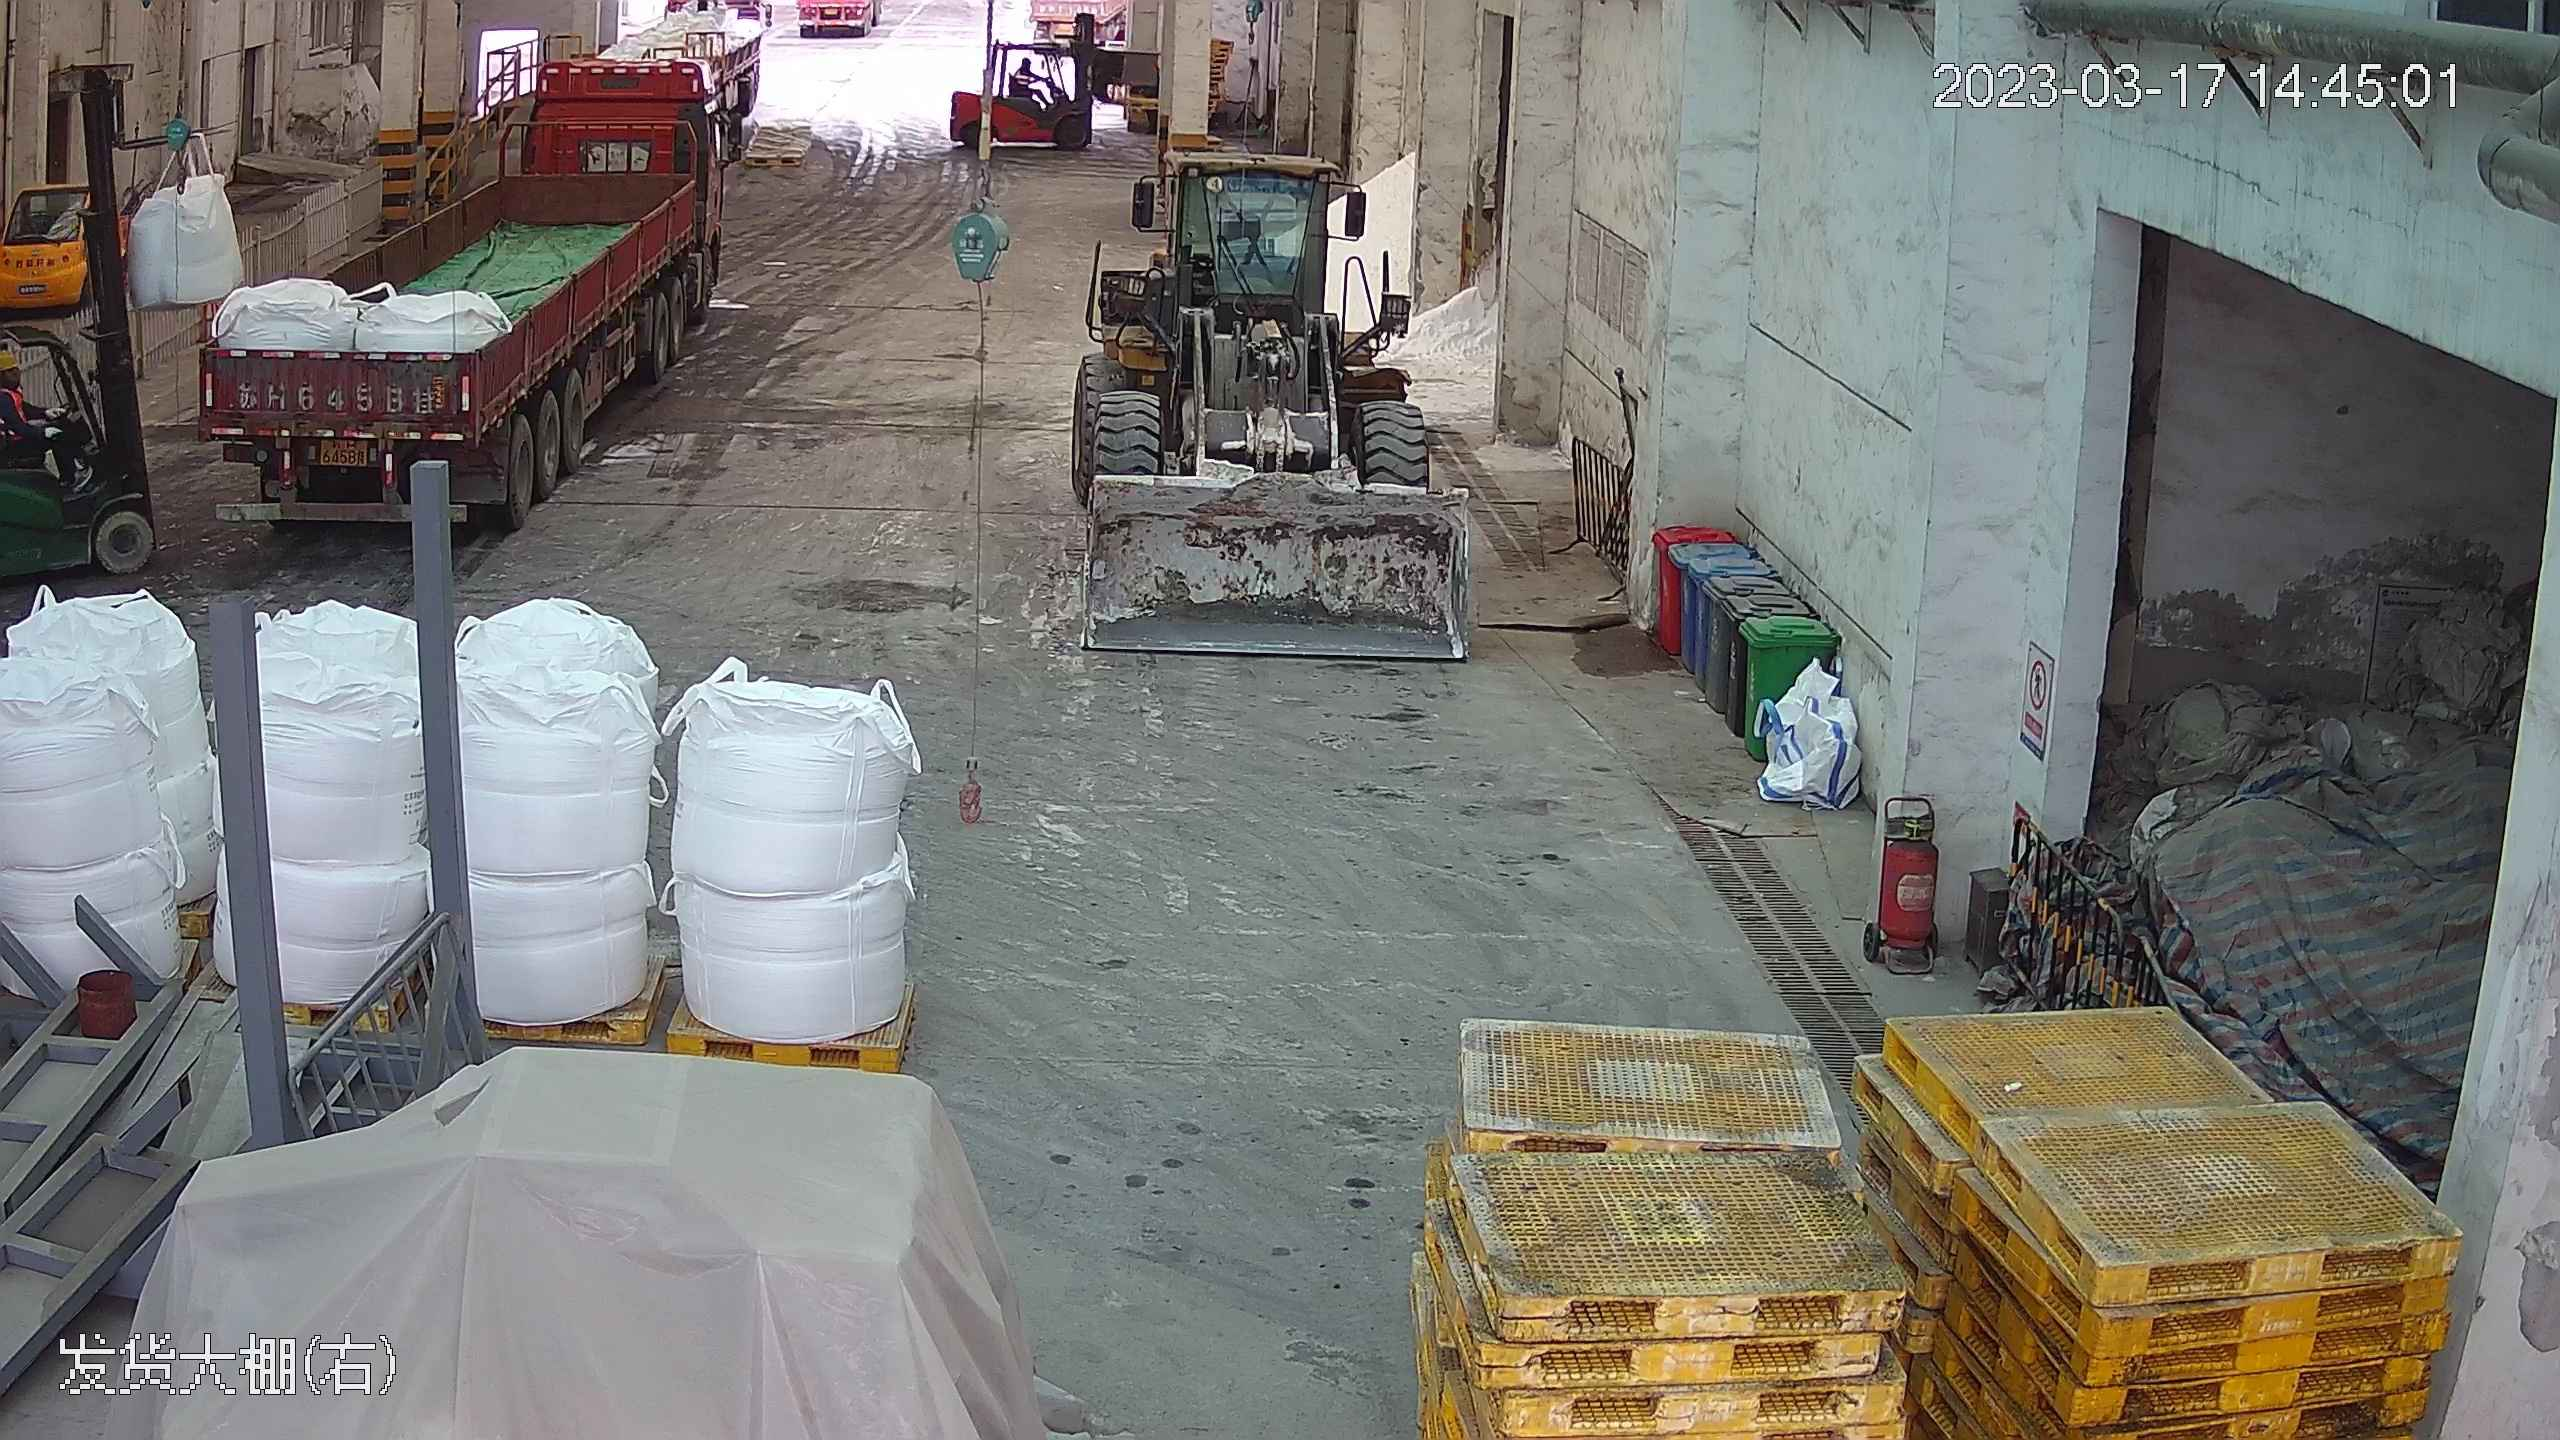head: (0, 345, 33, 405)
helmet: (1, 345, 30, 393)
people: (1, 346, 82, 486)
truck: (179, 8, 737, 518)
